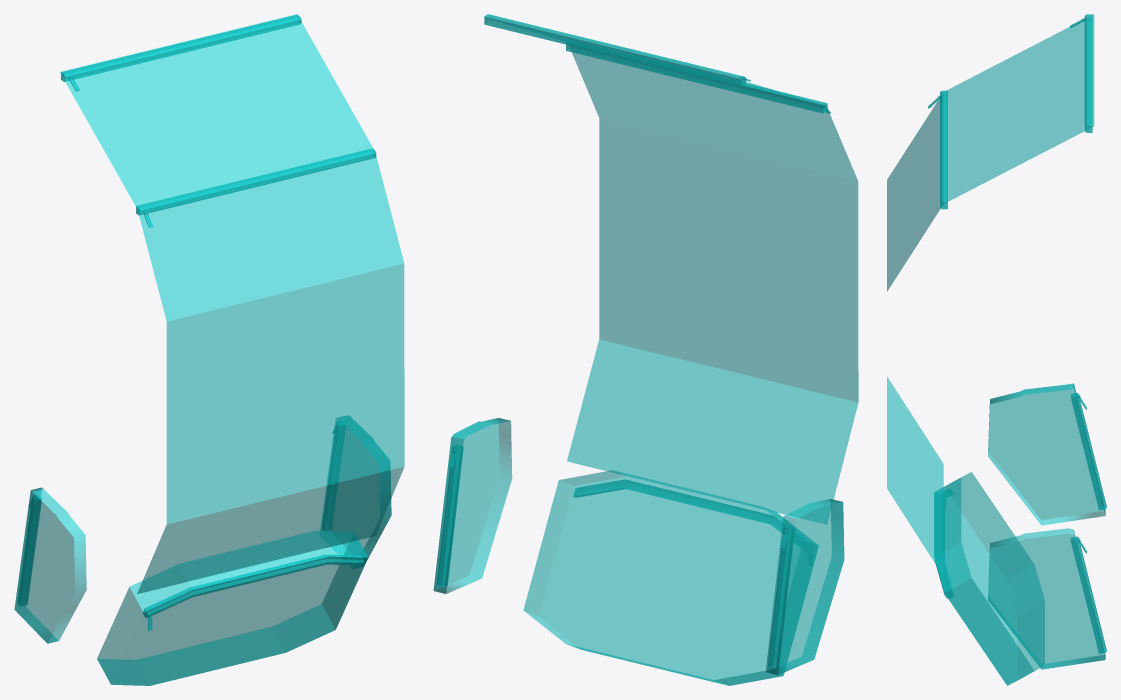
Rendered from m_BagHighlights.fbx.
The picture shows the model from 3 angles, left to right: view 1: azimuth 30°, elevation 25°; view 2: azimuth 150°, elevation 25°; view 3: azimuth 270°, elevation 25°; orthographic projection. The views are drawn at different scales.
Parts seen in each view (by area): view 1: m_Mid_H, m_Top_H, m_FrontPocket_H, m_Pocket_L_H, m_Pocket_R_H; view 2: m_Mid_H, m_FrontPocket_H, m_Pocket_L_H, m_Pocket_R_H, m_Top_H; view 3: m_Top_H, m_FrontPocket_H, m_Mid_H, m_Pocket_R_H, m_Pocket_L_H.
Part boxes in pixels (x1=…): m_Mid_H: x1=136, y1=148, x2=404, y2=593; m_Top_H: x1=60, y1=14, x2=373, y2=208; m_FrontPocket_H: x1=97, y1=531, x2=367, y2=685; m_Pocket_L_H: x1=14, y1=487, x2=86, y2=643; m_Pocket_R_H: x1=320, y1=415, x2=391, y2=568; m_Mid_H: x1=566, y1=43, x2=858, y2=524; m_FrontPocket_H: x1=523, y1=470, x2=818, y2=685; m_Pocket_L_H: x1=765, y1=499, x2=844, y2=674; m_Pocket_R_H: x1=433, y1=418, x2=512, y2=593; m_Top_H: x1=484, y1=14, x2=820, y2=104; m_Top_H: x1=944, y1=14, x2=1094, y2=203; m_FrontPocket_H: x1=934, y1=472, x2=1044, y2=685; m_Mid_H: x1=887, y1=90, x2=947, y2=575; m_Pocket_R_H: x1=988, y1=528, x2=1106, y2=669; m_Pocket_L_H: x1=988, y1=383, x2=1106, y2=525.
Size of the model in its own units: 110 by 199 by 68.61.
